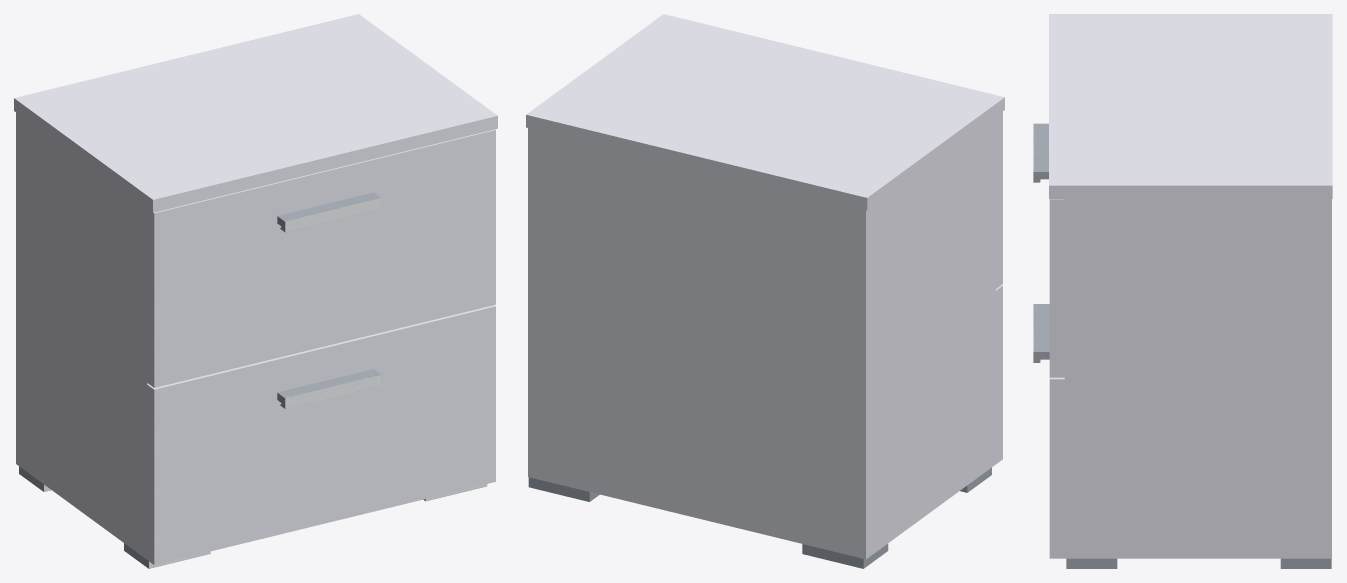
File: abo-B07GFWF2CX.glb
The picture shows the model from 3 angles, left to right: view 1: azimuth 30°, elevation 25°; view 2: azimuth 150°, elevation 25°; view 3: azimuth 270°, elevation 25°; orthographic projection. The views are drawn at different scales.
Bounding box in the file's own units: 0.441 × 0.46 × 0.325.
1 material, 1 textured.
